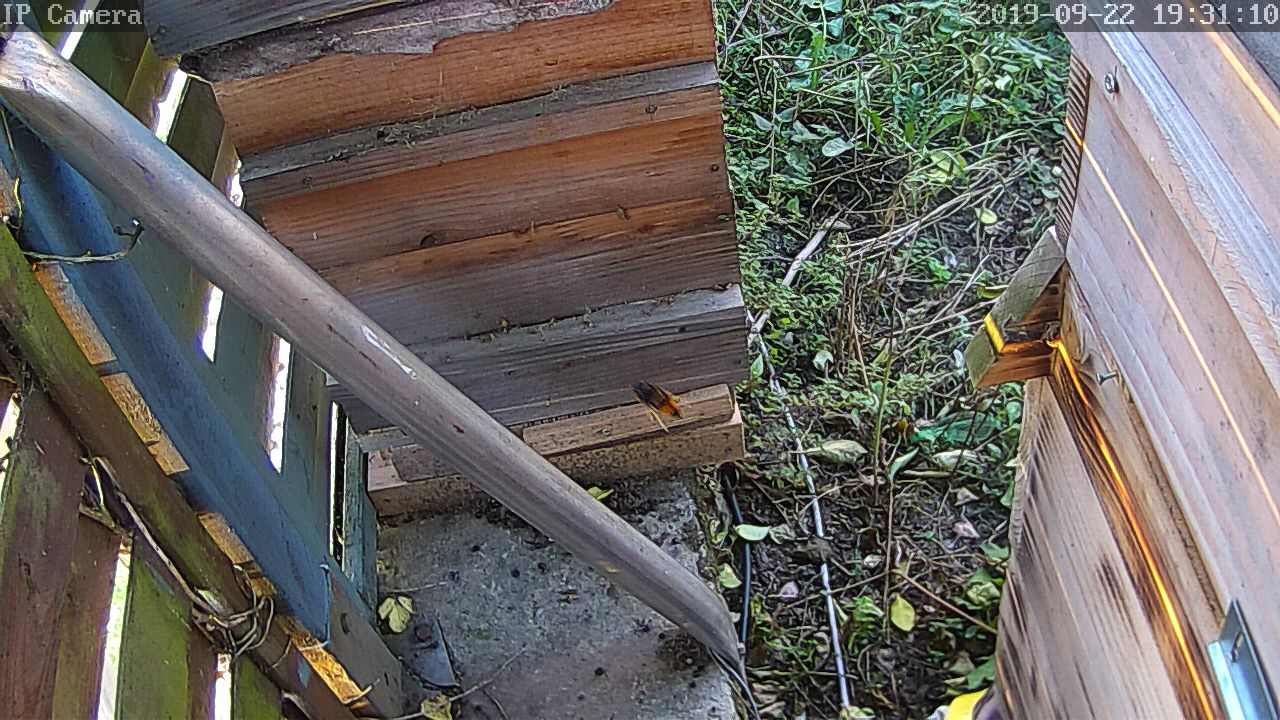hornet: (618, 375, 688, 428)
